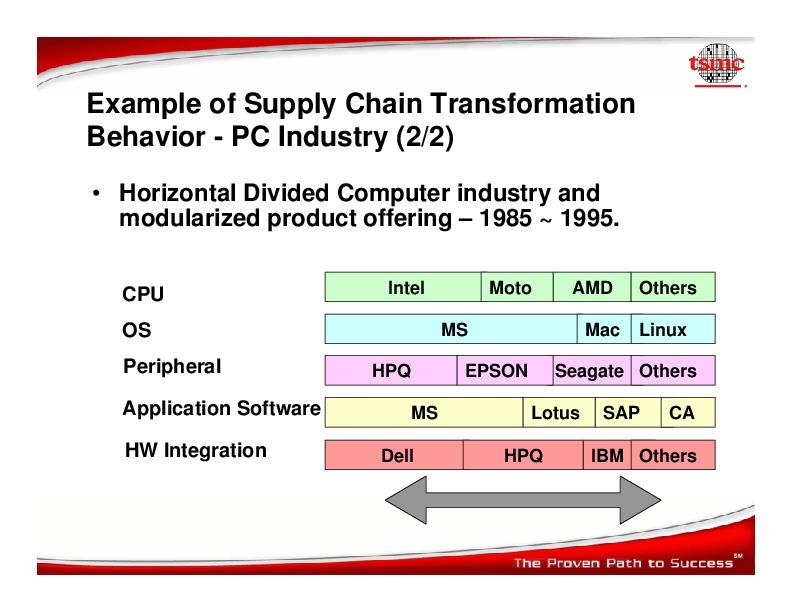title: (78, 86, 649, 154)
